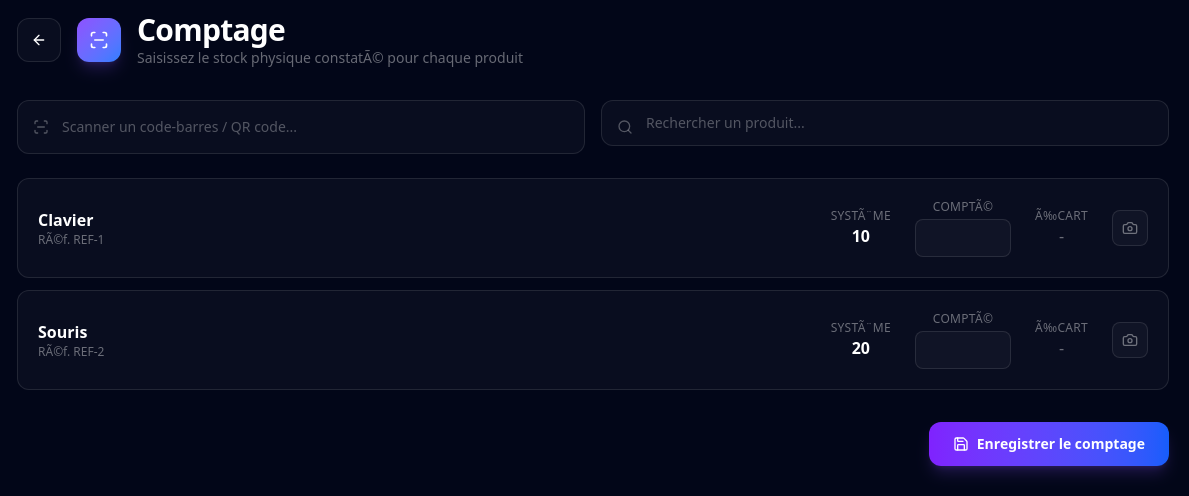
Comptage › filtre la recherche quand un code scanne correspond a un produit
The width and height of the screenshot is (1189, 496).
Expected: the text "Clavier" is shown, [38,209,94,231]
Type "222" into the field with placeholder "Scanner un code-barres / QR code..." at [301, 127], box [17,100,585,154]
Then press Enter
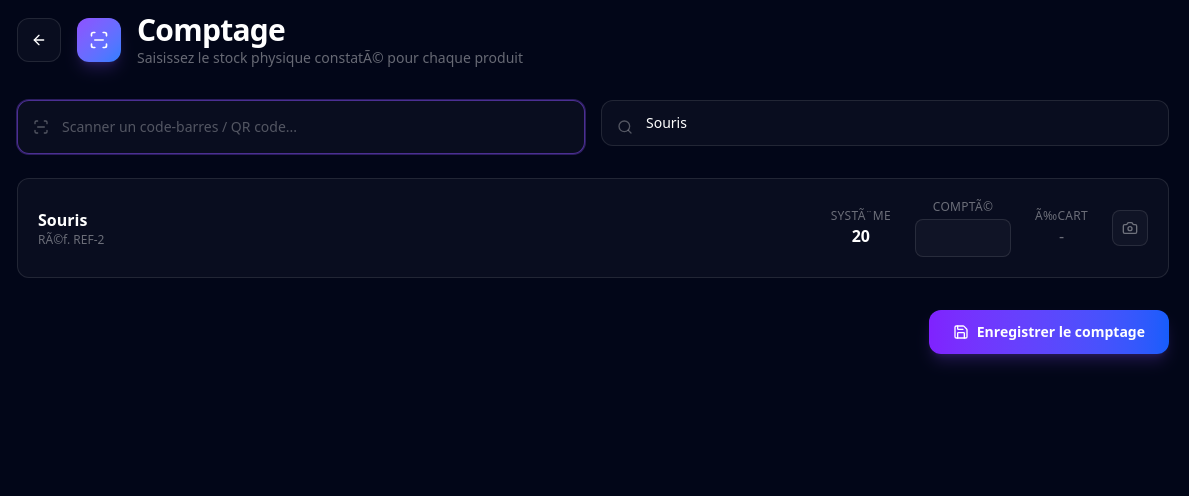
Expected: the text "Souris" is shown, [38,209,87,231]
Now the text "Clavier" is gone
